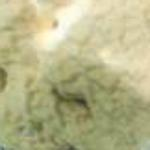alive: (2, 4, 149, 148)
